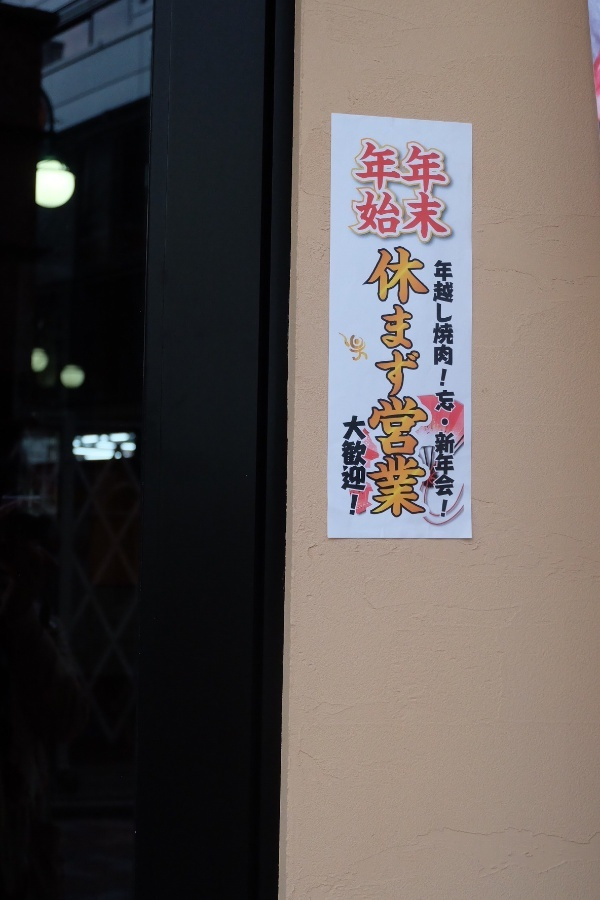text: (369, 247, 384, 521), (385, 247, 400, 521), (401, 247, 416, 521), (417, 247, 432, 521), (433, 258, 448, 518), (449, 258, 458, 518), (361, 247, 368, 521), (353, 413, 369, 518), (385, 136, 401, 240), (401, 136, 416, 245), (417, 136, 432, 245), (433, 136, 448, 245), (369, 136, 384, 240), (354, 136, 368, 240), (342, 413, 352, 518), (449, 136, 455, 245)
